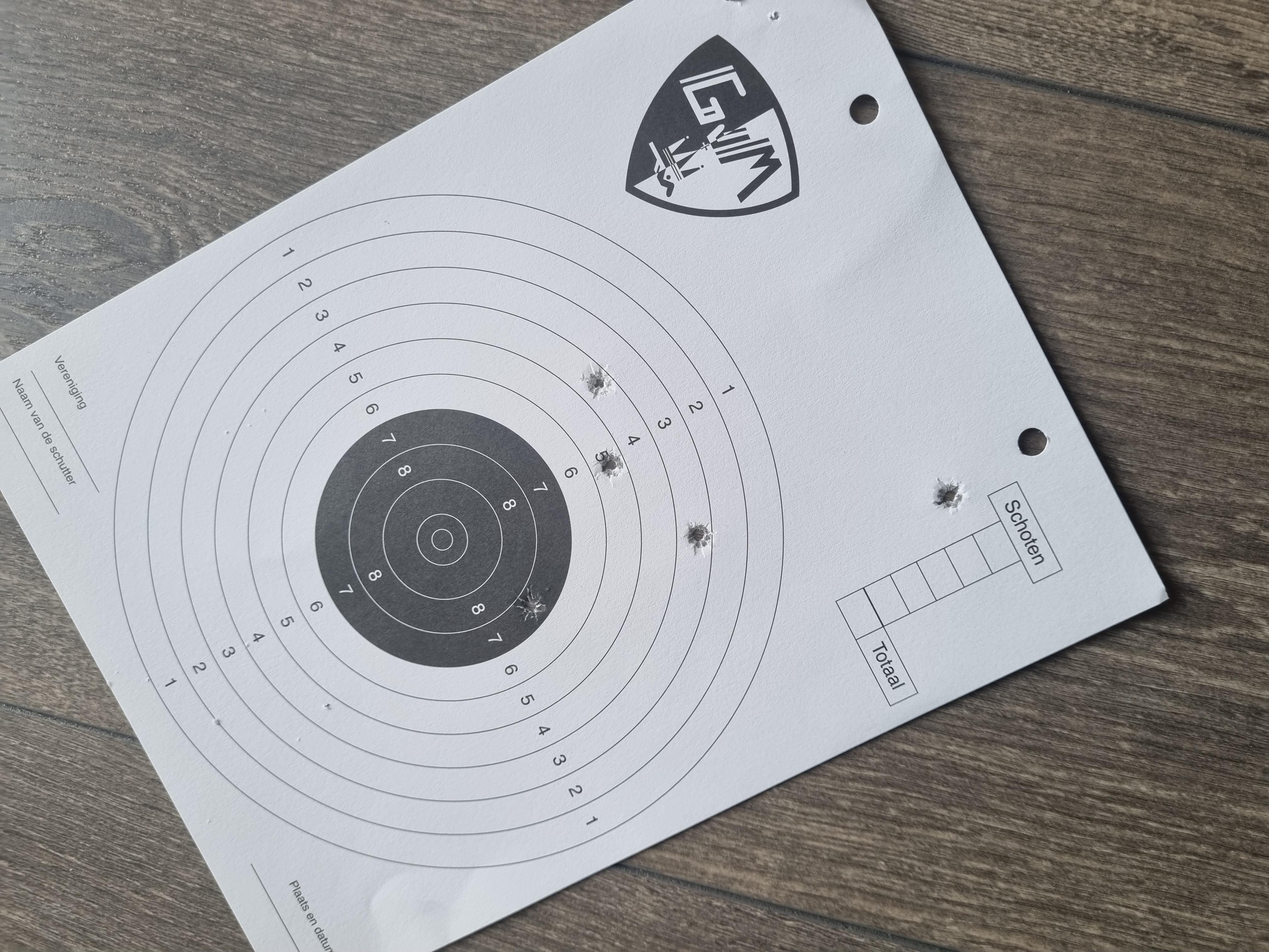hole: (589, 698, 634, 723), (441, 384, 486, 409), (737, 436, 781, 461), (528, 513, 575, 534), (629, 445, 671, 468)
